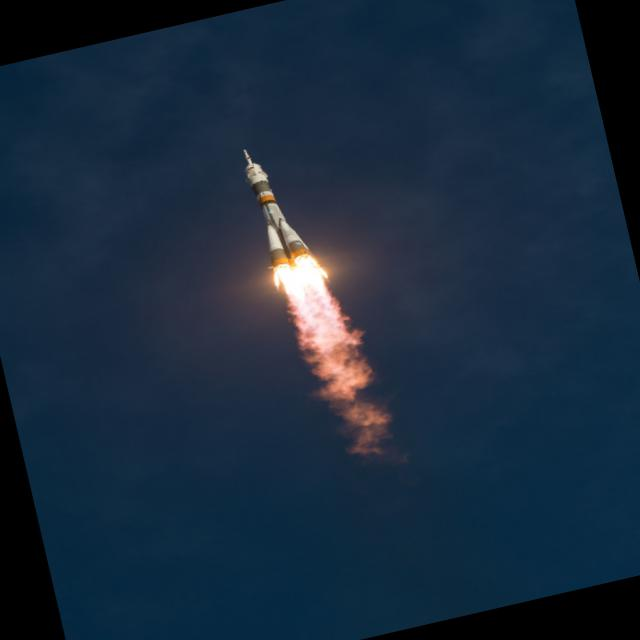rocket: (232, 134, 360, 379)
